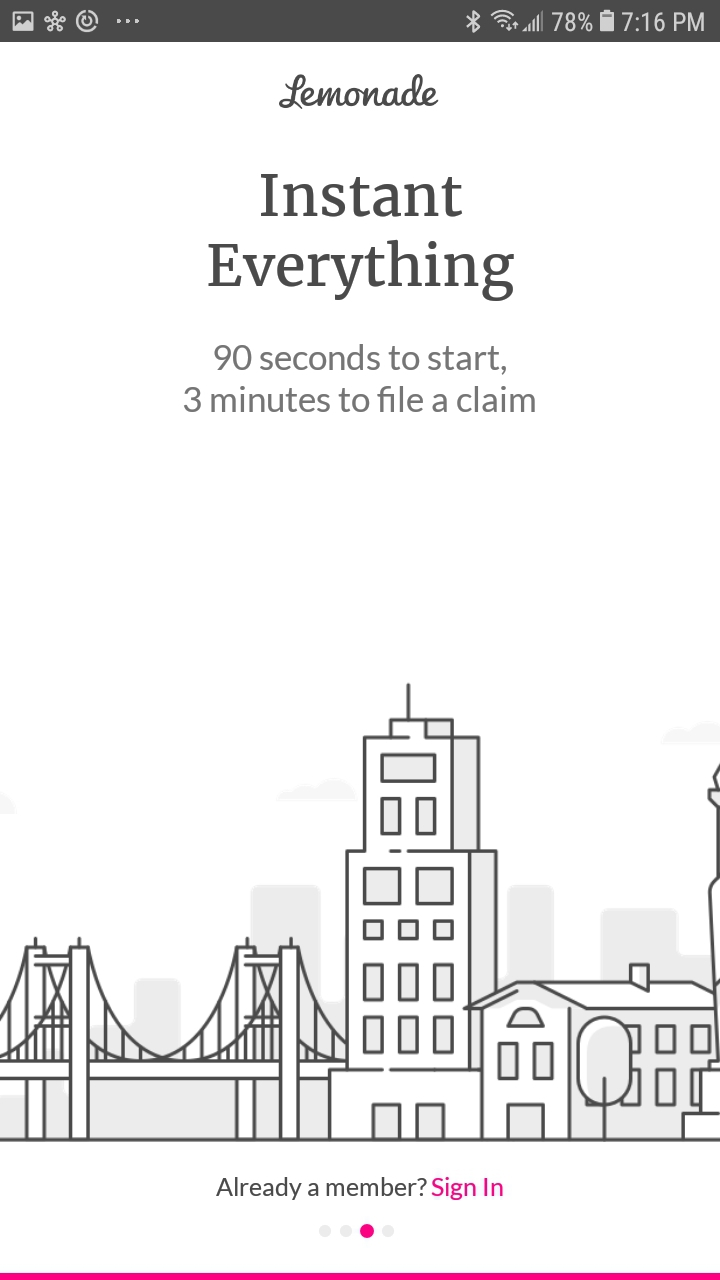Image: (1, 683, 720, 1142), (279, 75, 439, 110)
PageIndicator: (318, 1223, 395, 1239)
Text: (208, 174, 515, 302), (184, 344, 536, 414), (216, 1176, 504, 1201)
UpperTaskBar: (1, 1, 720, 43)
